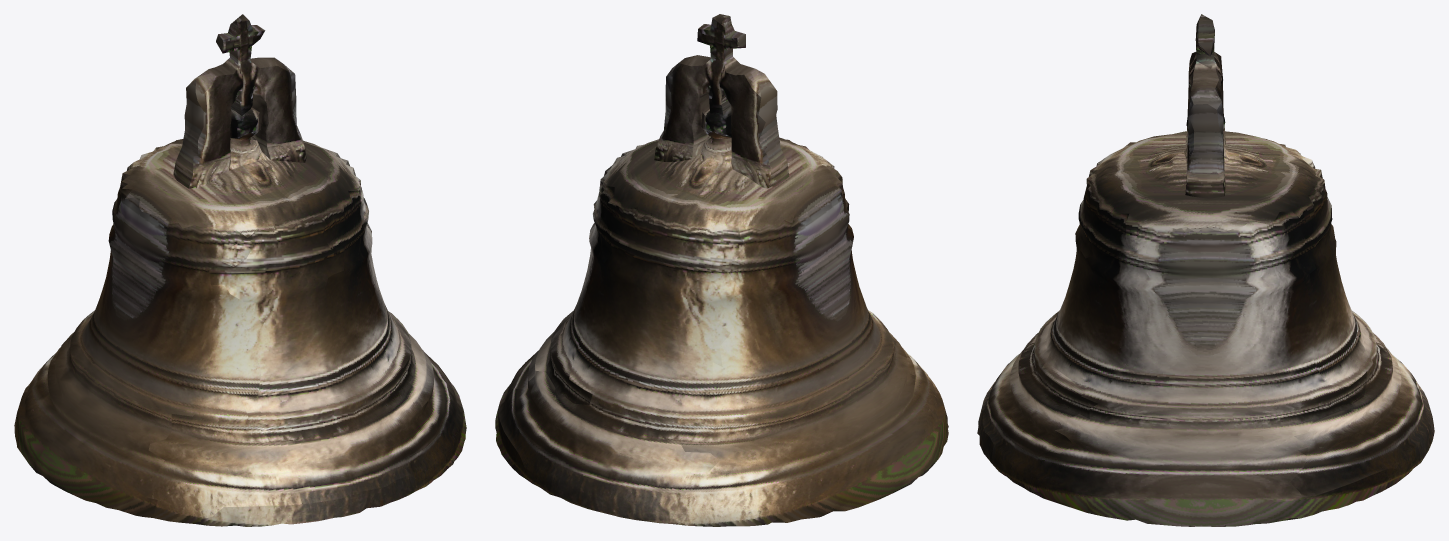
File: bell.glb
3 renders of one model, left to right at view 1: azimuth 30°, elevation 25°; view 2: azimuth 150°, elevation 25°; view 3: azimuth 270°, elevation 25°, orthographic.
Parts seen in each view (by area): view 1: geometry_0; view 2: geometry_0; view 3: geometry_0.
Boxes of the visible parts, box(x1,y1,x2,y2) form: geometry_0: box(14, 14, 466, 526); geometry_0: box(495, 14, 948, 526); geometry_0: box(977, 14, 1434, 526).
Bounding box in the file's own units: 1.39 × 1.4 × 1.4.
1 material, 1 textured.
